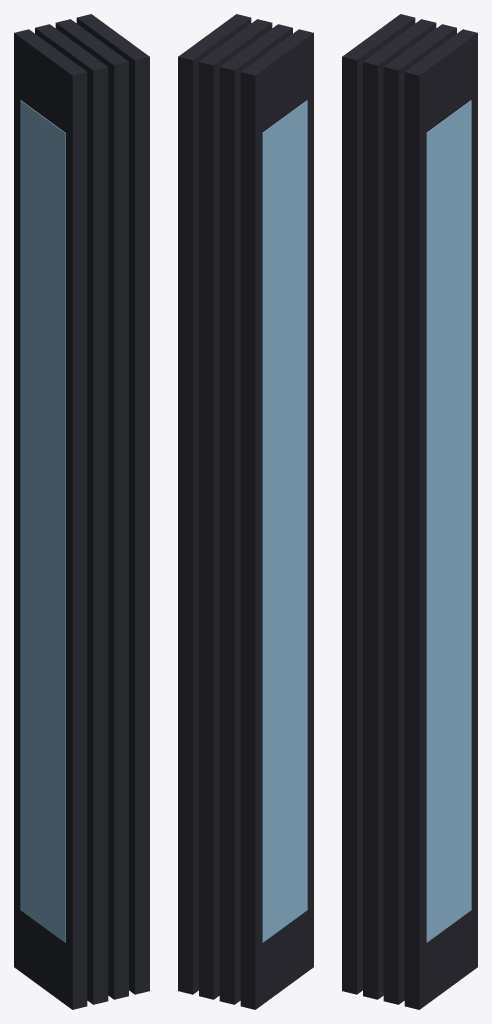
The model's file is lib_door_leaves.glb.
3 views of the same model, side by side, from view 1: azimuth 30°, elevation 25°; view 2: azimuth 150°, elevation 25°; view 3: azimuth 330°, elevation 25° (orthographic).
Parts seen in each view (by area): view 1: leaves; view 2: leaves; view 3: leaves.
Part boxes in pixels (x1,y1,x2,y2): leaves: [14, 14, 149, 1009]; leaves: [178, 14, 313, 1009]; leaves: [342, 14, 477, 1009].
Size of the model in its own units: 0.264 by 3 by 0.34.
